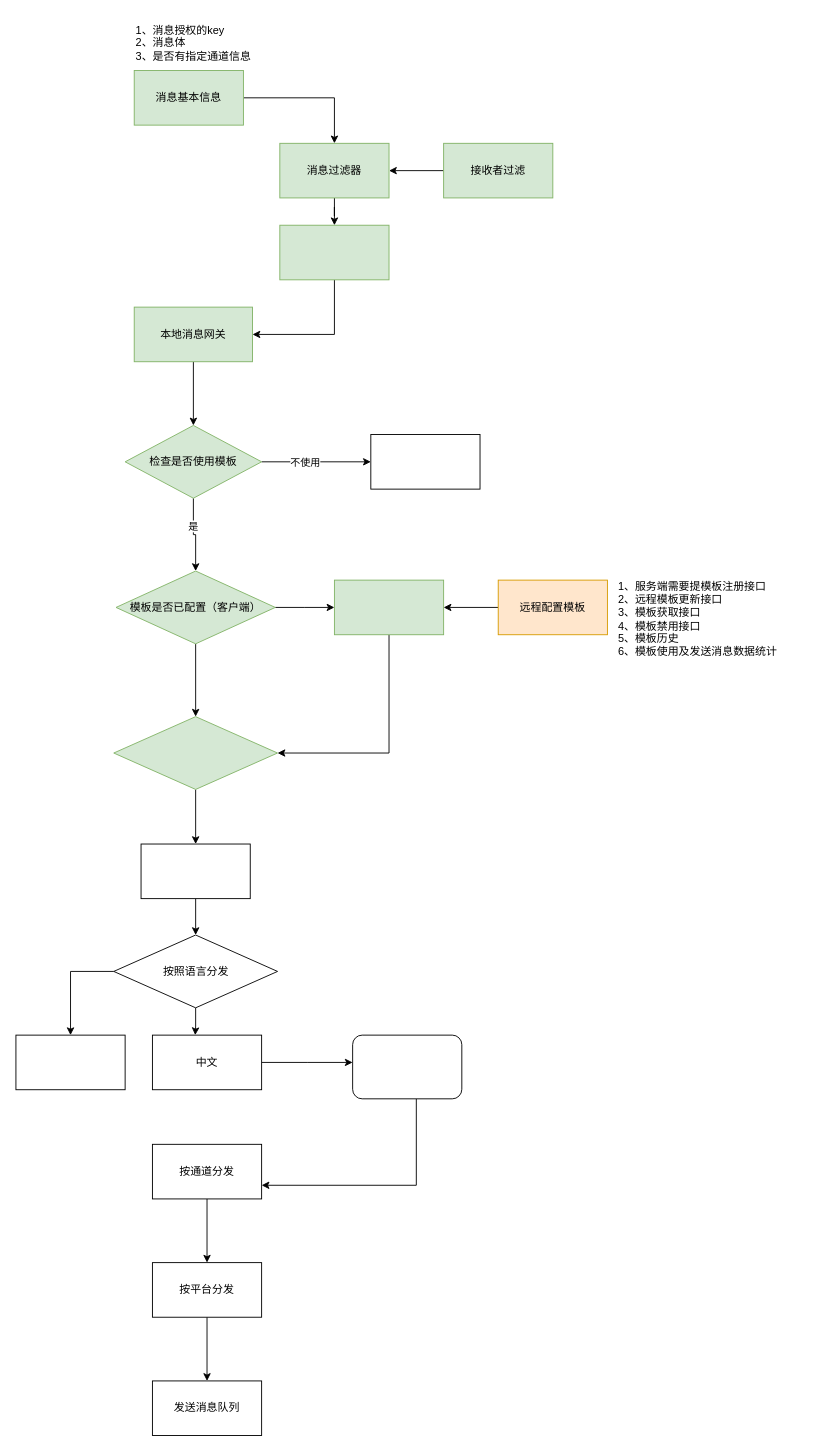
Some shapes in this 833 by 1451 pixel diagram are drawn without their labels. Here are the shapes that lost their labels. From the top down, the centre of each, then its label:
At (334,252): "国际化拦截器 （客户端实现）".
At (389,607): "本地配置模板".
At (195,752): "检查是否指定发送通道".
At (195,871): "消息分发器".
At (70,1062): "EN".
At (407,1066): "处理好语言".
